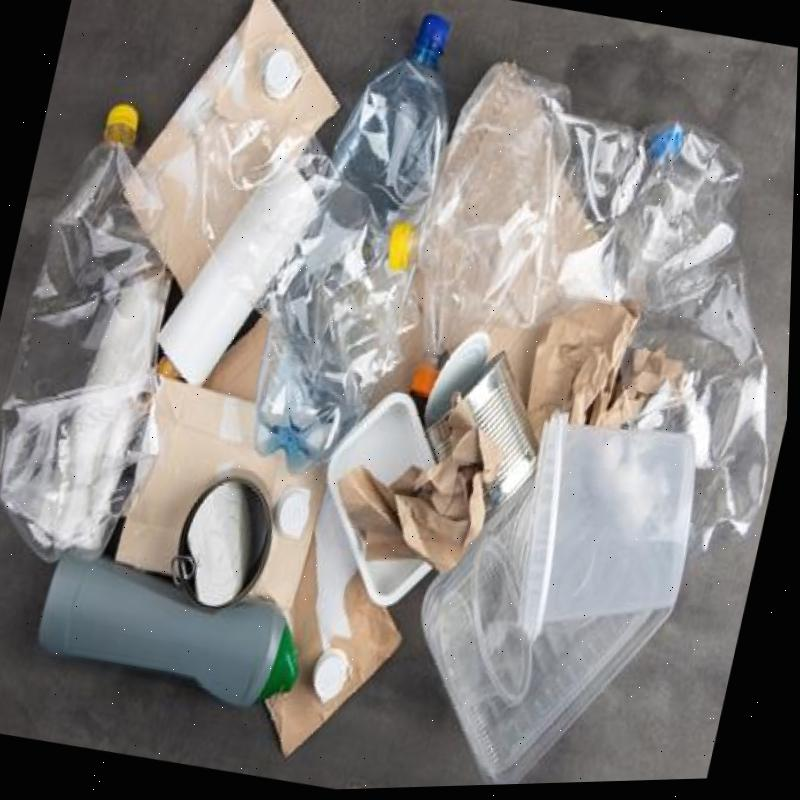botella: (115, 62, 461, 427), (535, 101, 797, 561), (360, 39, 667, 401), (0, 88, 230, 568), (253, 0, 476, 478)
